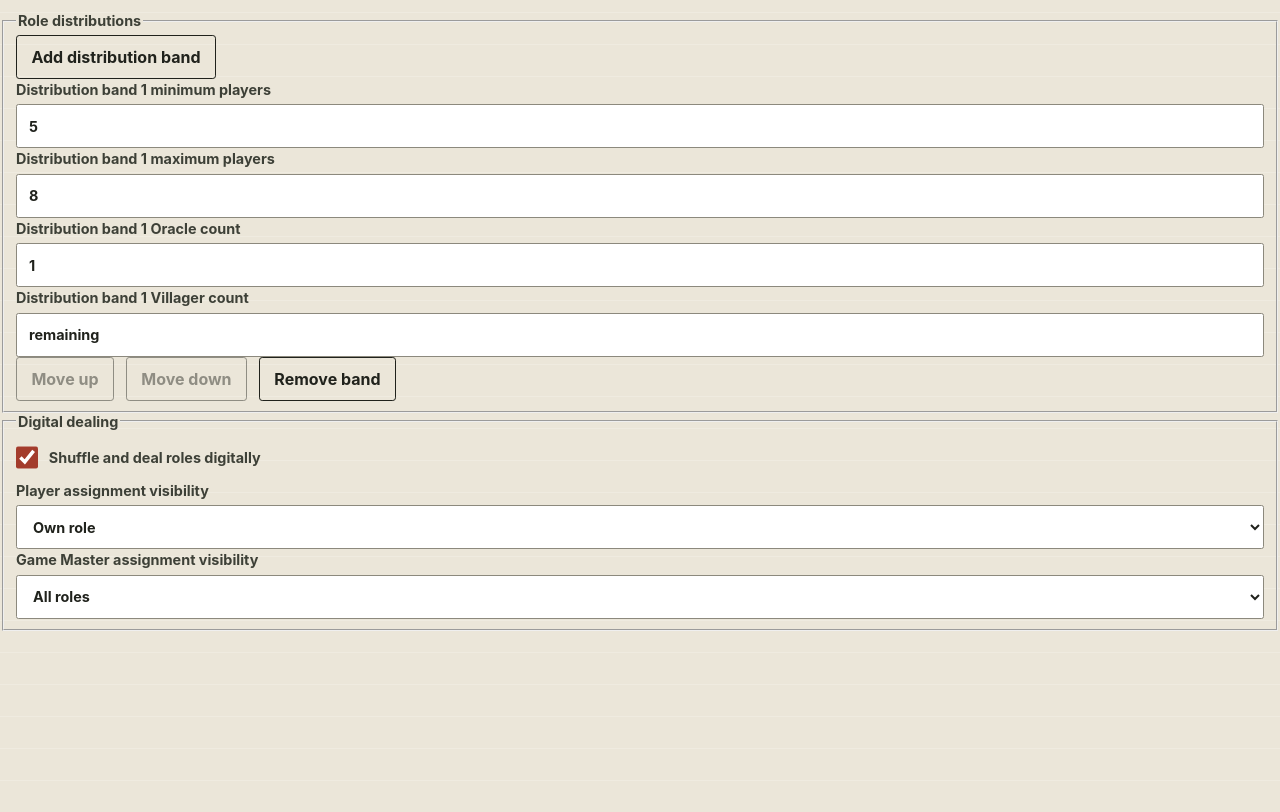
Scenario: DistributionEditor › requires digital dealing to be disabled before the last distribution is removed
Click the button with aria-label "Remove distribution band 1": [328, 379] box [259, 357, 396, 401]
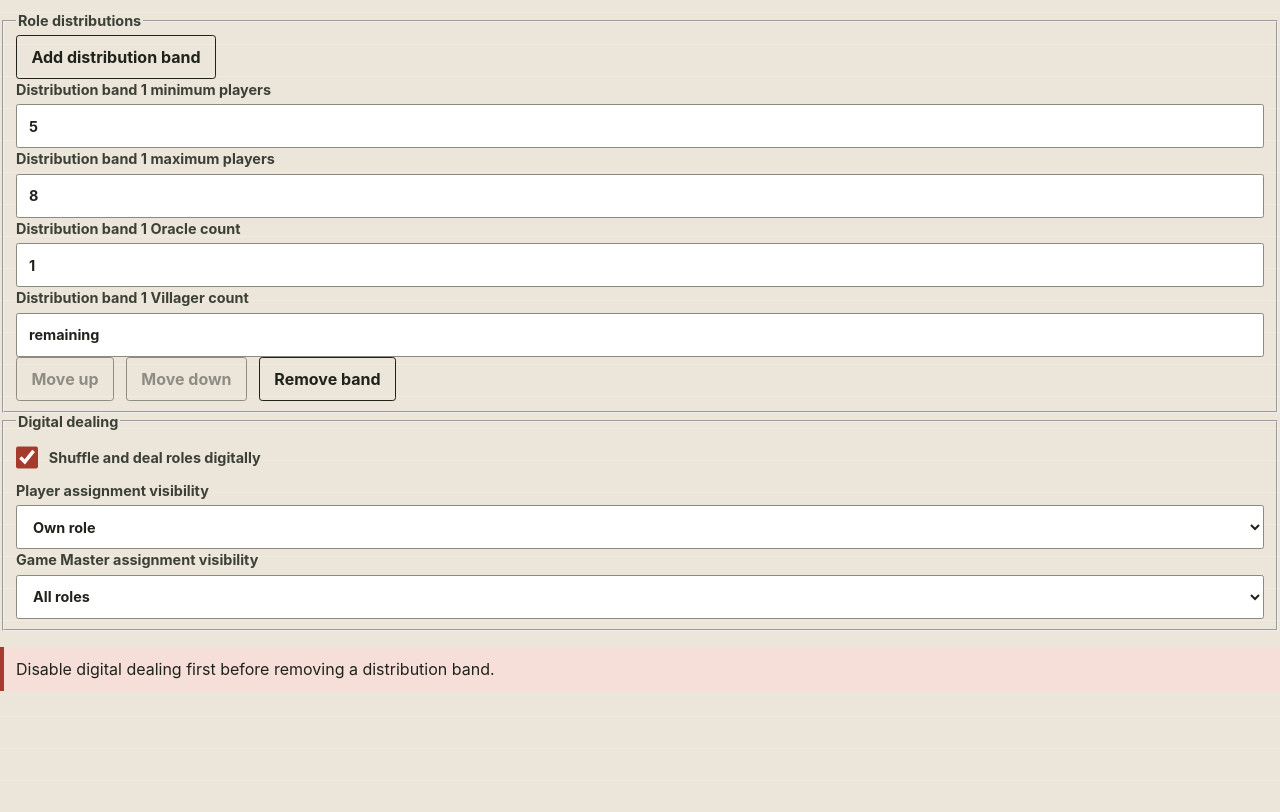
Expected: the message shows "Disable digital dealing first", [16, 659, 494, 679]
